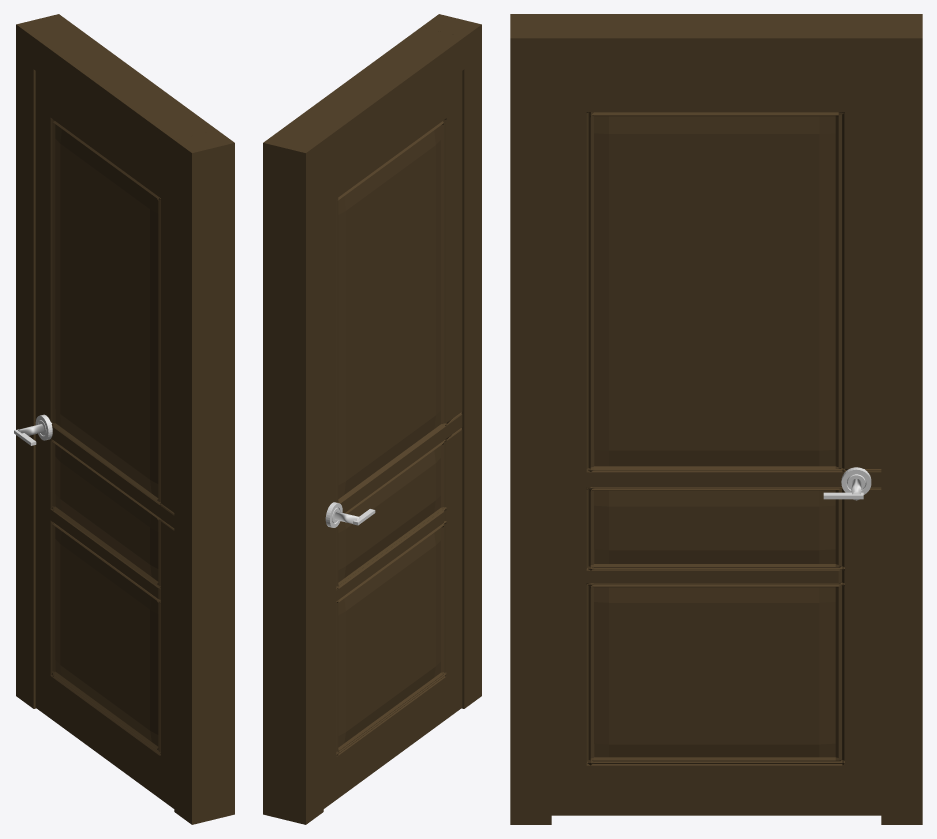
Rendered from Door.glb.
The picture shows the model from 3 angles, left to right: view 1: azimuth 30°, elevation 25°; view 2: azimuth 150°, elevation 25°; view 3: azimuth 270°, elevation 25°; orthographic projection. The views are drawn at different scales.
Visible parts, largest first — view 1: Cube.003, Cube.007; view 2: Cube.003, Cube.007; view 3: Cube.003, Cube.007.
Boxes of the visible parts, x1,y1,x2,y2 form: Cube.003: (14, 71, 174, 808); Cube.007: (16, 14, 234, 824); Cube.003: (323, 71, 462, 808); Cube.007: (263, 14, 481, 824); Cube.003: (551, 76, 881, 815); Cube.007: (510, 14, 922, 824).
Bounding box in the file's own units: 0.276 × 2.1 × 0.9971.
